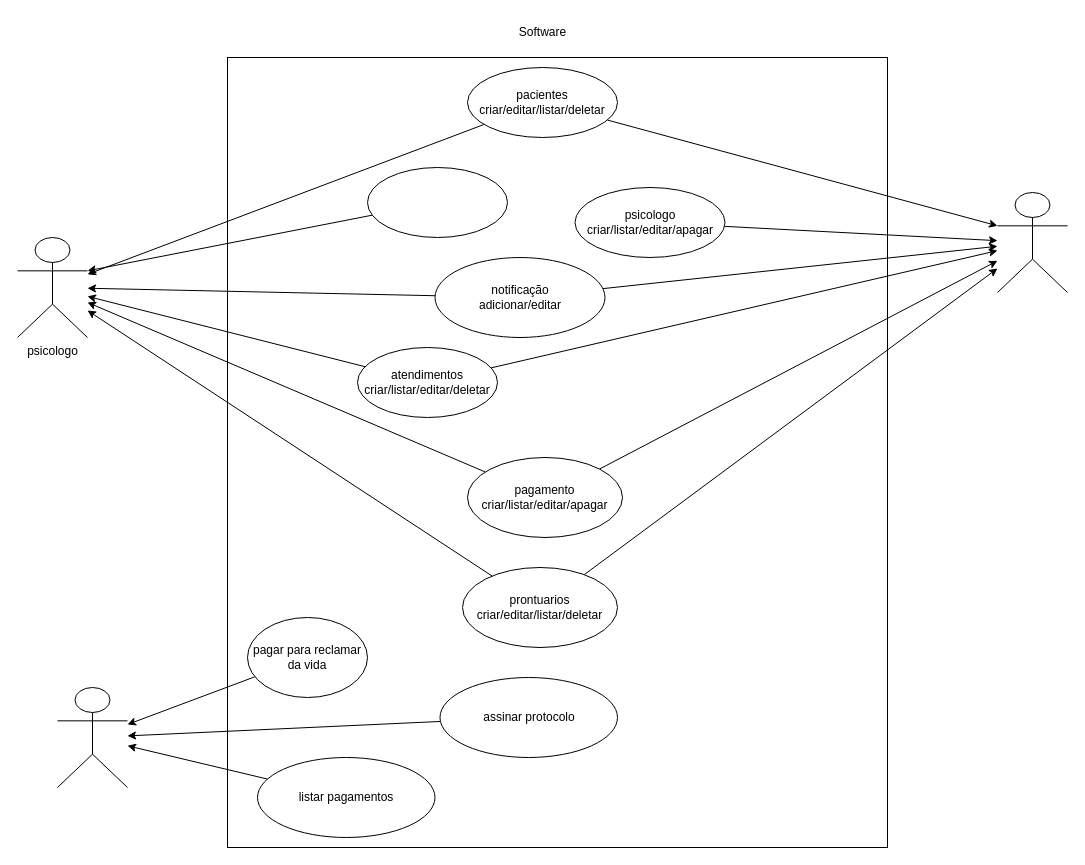
The diagram is 1085 pixels wide and 865 high, and some of its shapes have lost their labels. Each missing label, with the box of its shape:
admin: (996, 192, 1068, 292)
atualizar preço sessão: (366, 166, 508, 238)
paciente: (56, 686, 128, 788)
